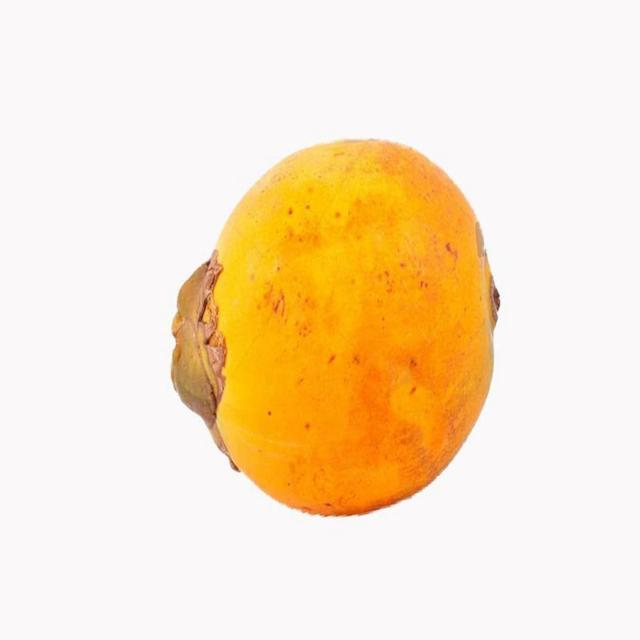good: (170, 140, 500, 519)
